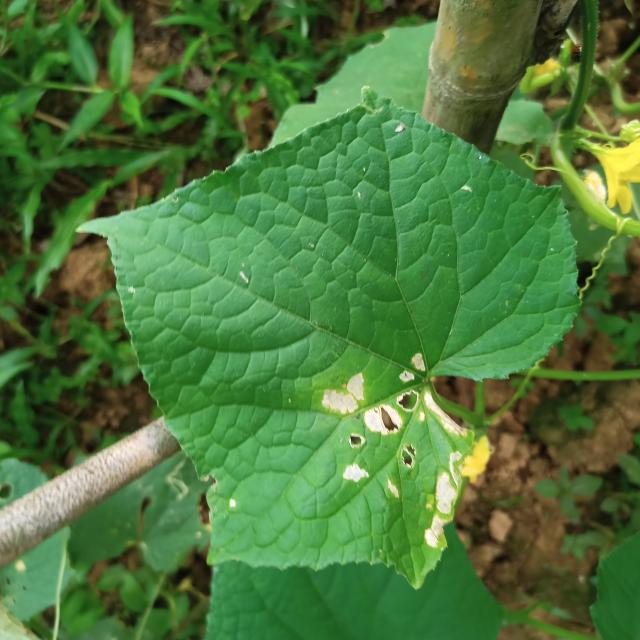disease_cucumber: (321, 352, 465, 556)
